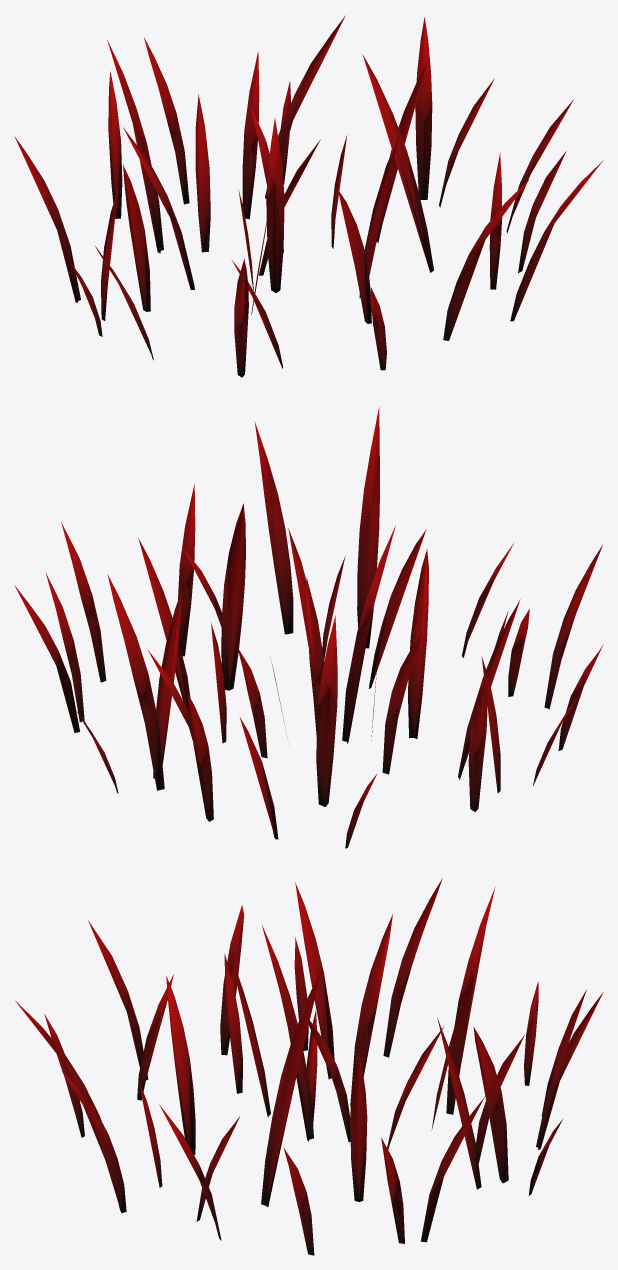
File: grassLOD1.fbx
The picture shows the model from 3 angles, top to bottom: view 1: azimuth 30°, elevation 25°; view 2: azimuth 150°, elevation 25°; view 3: azimuth 270°, elevation 25°; orthographic projection. The views are drawn at different scales.
Parts seen in each view (by area): view 1: Grass.001; view 2: Grass.001; view 3: Grass.001.
Boxes of the visible parts, box(x1,y1,x2,y2) form: Grass.001: box(14, 15, 603, 377); Grass.001: box(14, 407, 603, 848); Grass.001: box(15, 878, 602, 1255).
Size of the model in its own units: 3.42 by 1.38 by 3.37.
